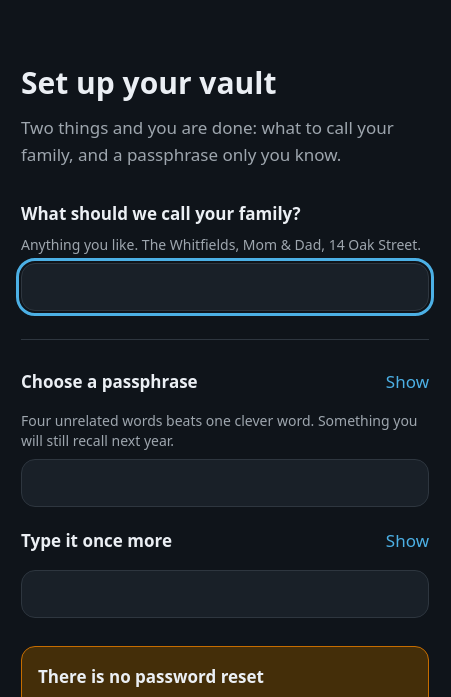
Test: setting up a vault › will not submit until the passphrase is long enough and confirmed
Type "Whitfield" into the field labelled "What should we call your family?" at (225, 287), box [21, 263, 429, 311]
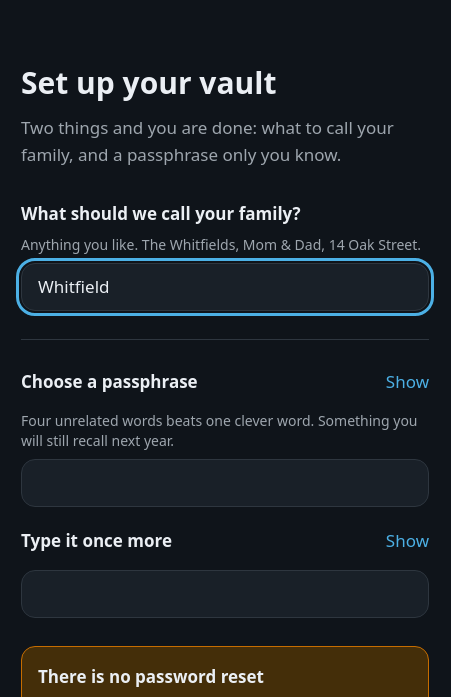
Type "short" into the password field named "Choose a passphrase" at (225, 483), box [21, 459, 429, 507]
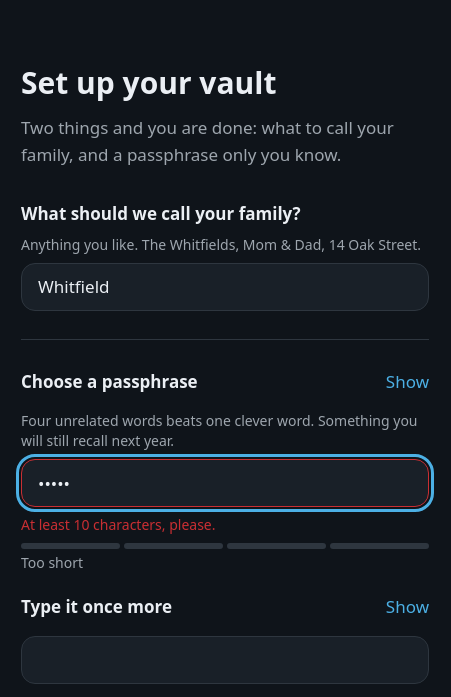
Expected: the text "At least 10 characters, please." is shown, [21, 515, 216, 534]
Type "the right passphrase" into the password field named "Choose a passphrase" at (225, 483), box [21, 459, 429, 507]
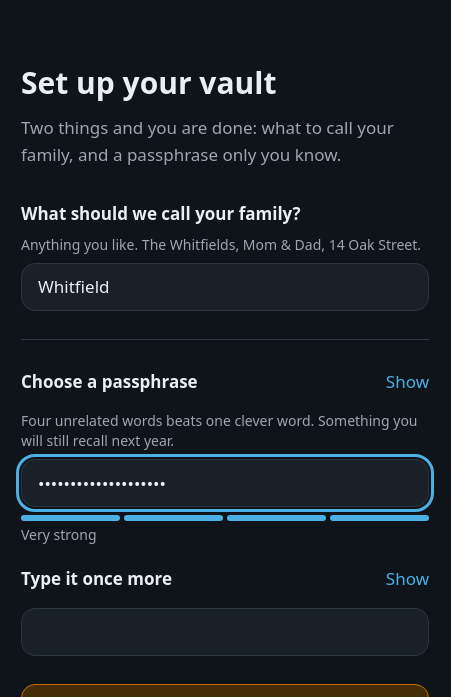
Type "something else" into the password field named "Type it once more" at (225, 632), box [21, 608, 429, 656]
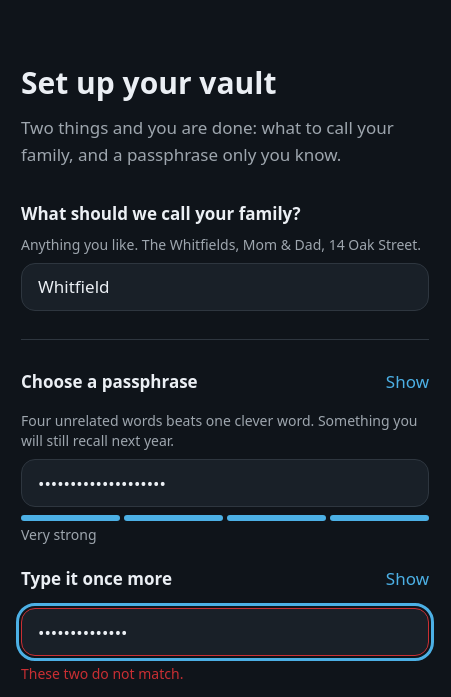
Expected: the text "These two do not match." is shown, [21, 664, 183, 683]
Type "the right passphrase" into the password field named "Type it once more" at (225, 632), box [21, 608, 429, 656]
(page scrolled)
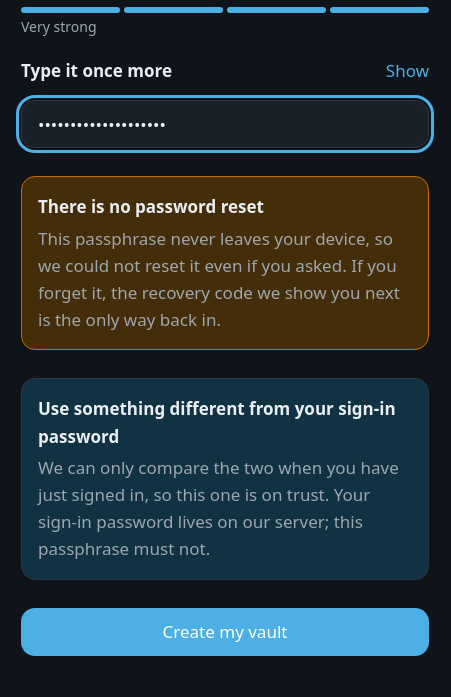
Expected: the button "Create my vault" is enabled, [21, 608, 429, 656]
